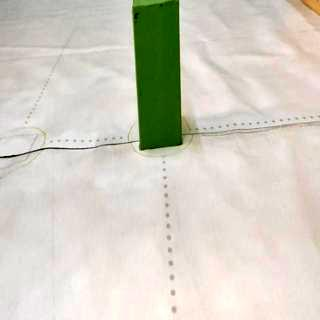greenbox: (126, 0, 187, 152)
